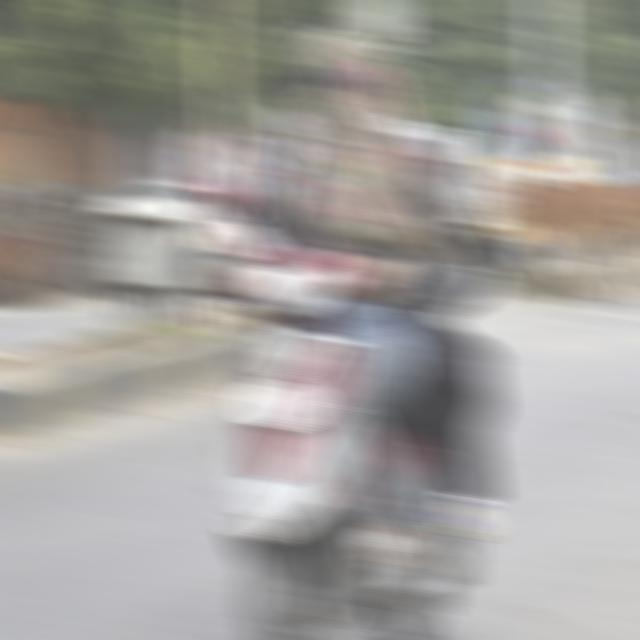Without Helmet: (295, 20, 381, 124)
